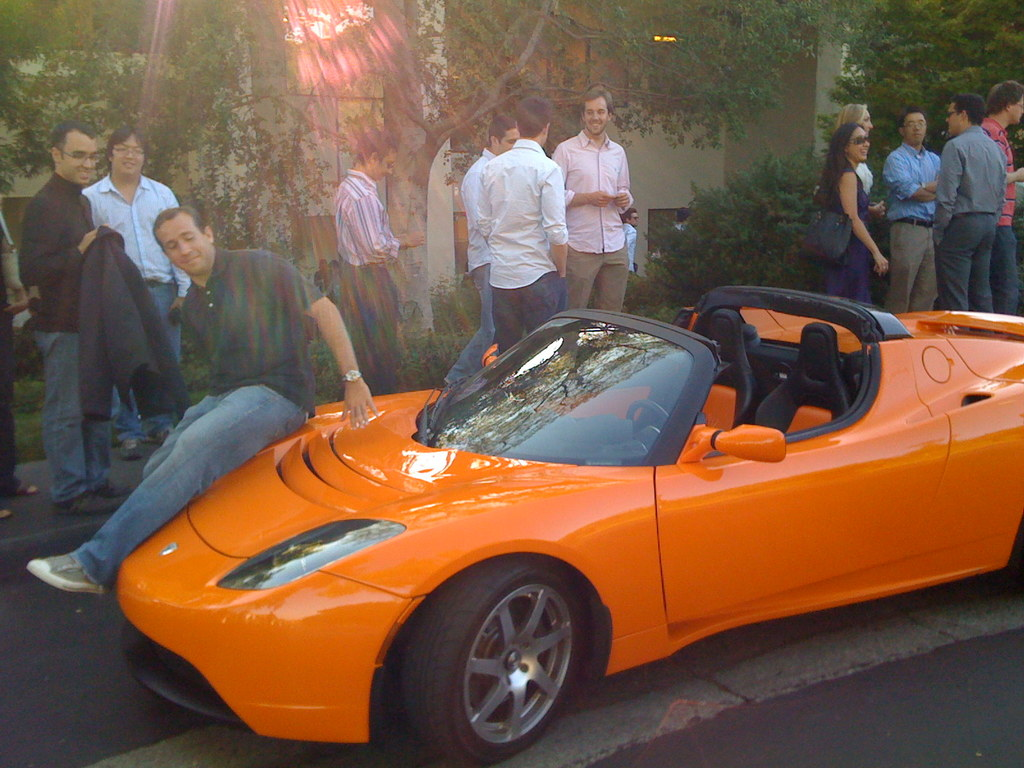Tree: (0, 0, 1024, 338)
